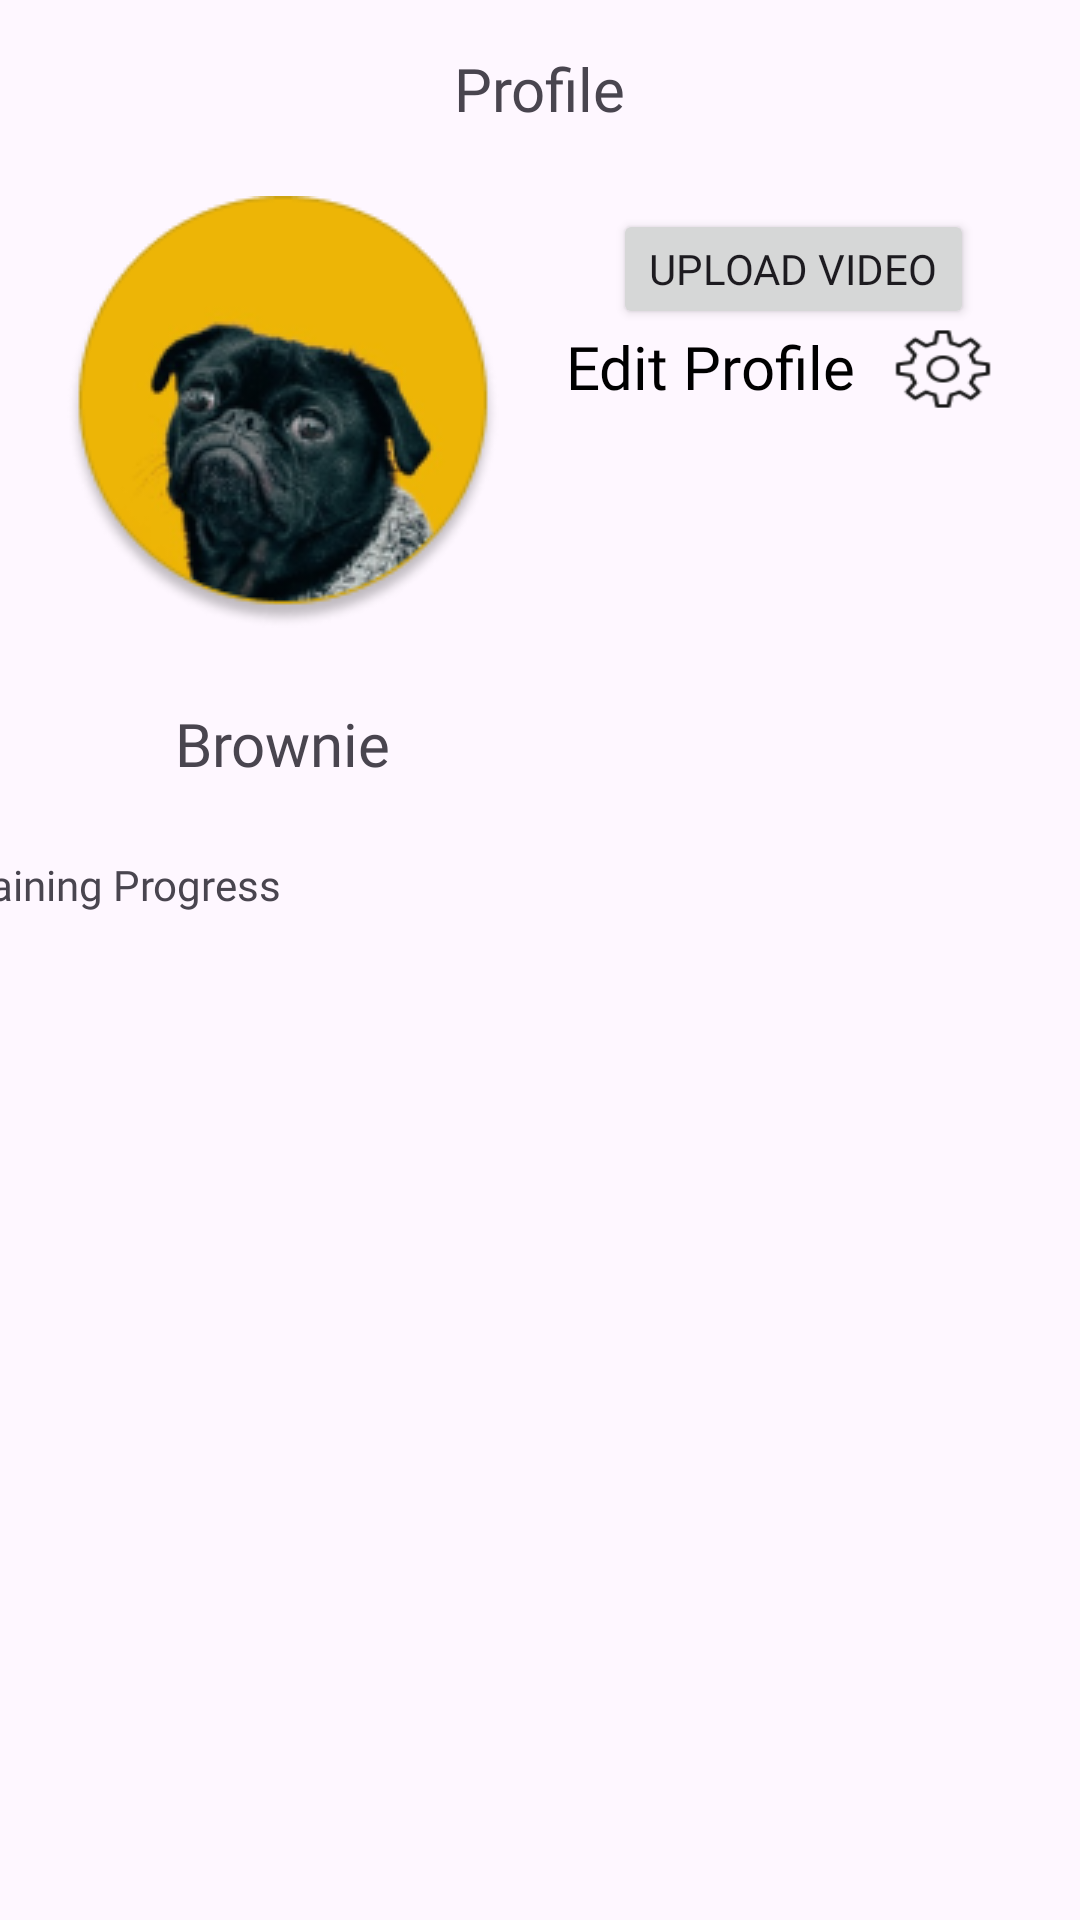

Point at icon controls on the screen. Image size 1080*1920, points as point (x, y).
settings: point (943, 369)
